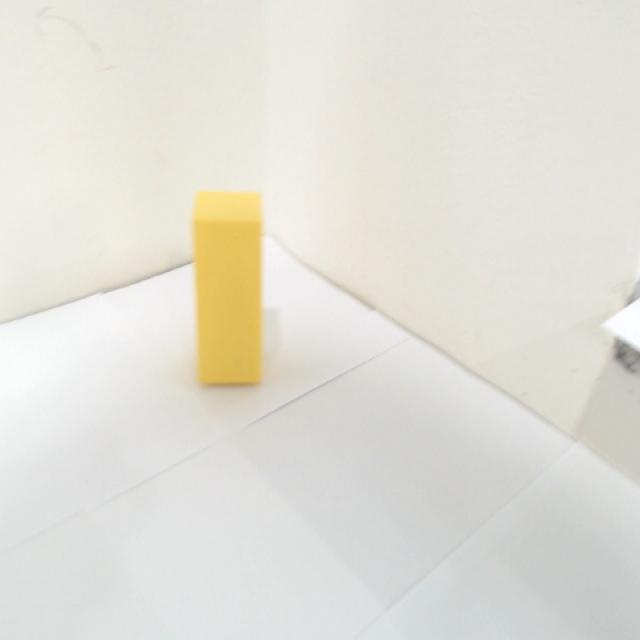cube: (176, 165, 279, 408)
